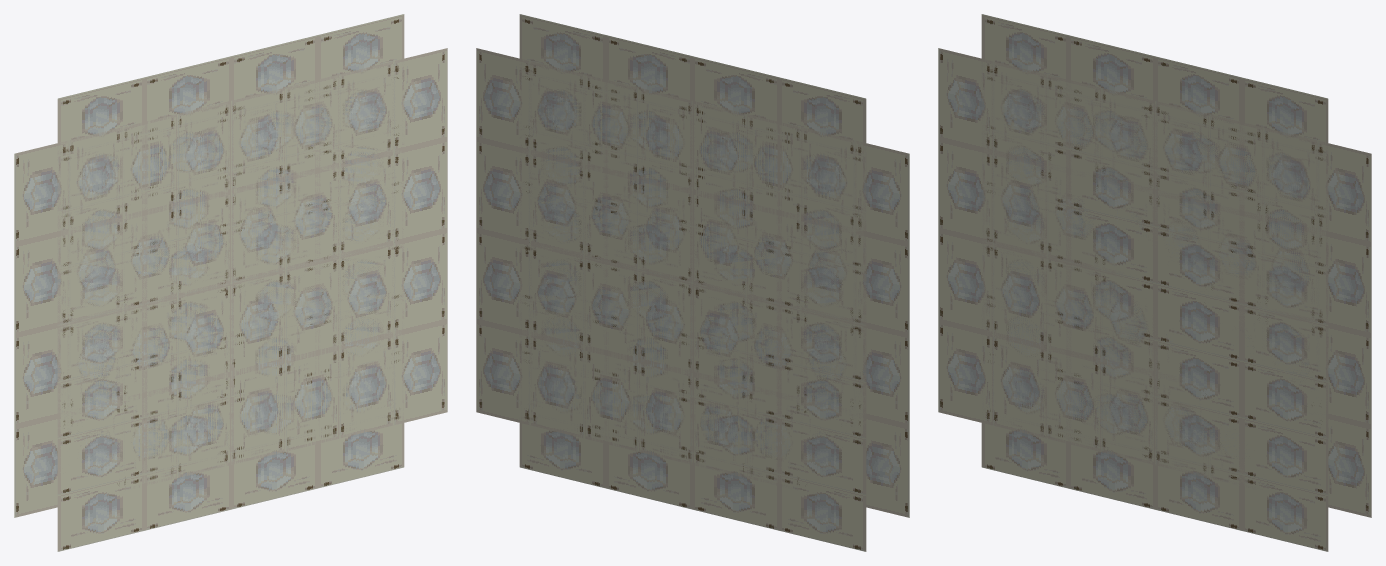
File: 5242item2923.gltf
3 views of the same model, side by side, from view 1: azimuth 30°, elevation 25°; view 2: azimuth 150°, elevation 25°; view 3: azimuth 330°, elevation 25° (orthographic).
Visible parts, largest first — view 1: 5242item2923; view 2: 5242item2923; view 3: 5242item2923.
Boxes of the visible parts, bbox=[...] form: 5242item2923: bbox=[14, 14, 447, 551]; 5242item2923: bbox=[476, 14, 909, 551]; 5242item2923: bbox=[938, 14, 1371, 551].
Bounding box in the file's own units: 1 × 1 × 0.
Materials: 1 (1 with a texture image).
